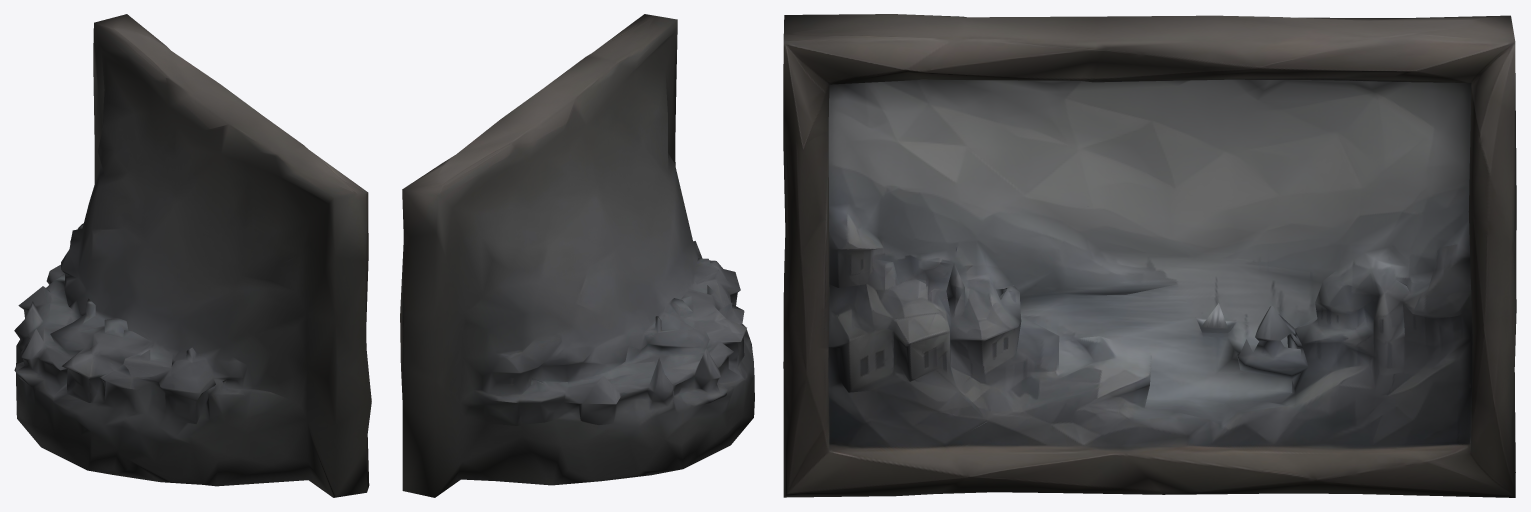
The model's file is low+poly+landscape+3d+model.glb.
The picture shows the model from 3 angles, left to right: view 1: azimuth 30°, elevation 25°; view 2: azimuth 150°, elevation 25°; view 3: azimuth 270°, elevation 25°; orthographic projection. The views are drawn at different scales.
Visible parts, largest first — view 1: tripo_node_b2be265a-451d-4007-a079-974420dbb561; view 2: tripo_node_b2be265a-451d-4007-a079-974420dbb561; view 3: tripo_node_b2be265a-451d-4007-a079-974420dbb561.
Boxes of the visible parts, x1=… form: tripo_node_b2be265a-451d-4007-a079-974420dbb561: x1=14, y1=14, x2=371, y2=497; tripo_node_b2be265a-451d-4007-a079-974420dbb561: x1=400, y1=14, x2=754, y2=497; tripo_node_b2be265a-451d-4007-a079-974420dbb561: x1=783, y1=14, x2=1516, y2=497.
Size of the model in its own units: 0.528 by 0.6915 by 1.
Materials: 1 (1 with a texture image).
